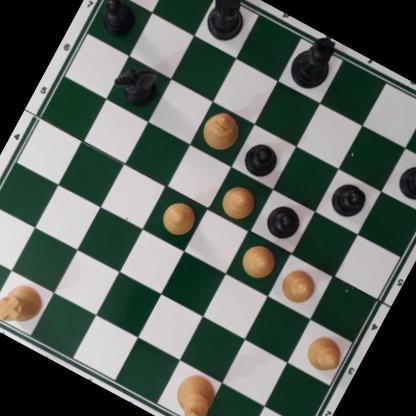black-king: (282, 28, 345, 98)
black-knight: (110, 56, 166, 112)
black-pawn: (238, 136, 284, 183), (326, 176, 371, 222), (261, 198, 306, 244), (94, 0, 142, 39), (393, 157, 416, 207)
black-rook: (199, 0, 259, 47)
white-bishop: (198, 104, 246, 154)
white-king: (165, 368, 223, 416)
white-pawn: (300, 330, 349, 376), (276, 262, 323, 309), (214, 178, 262, 224), (236, 237, 282, 283), (156, 196, 200, 240)
white-rook: (0, 276, 50, 333)
